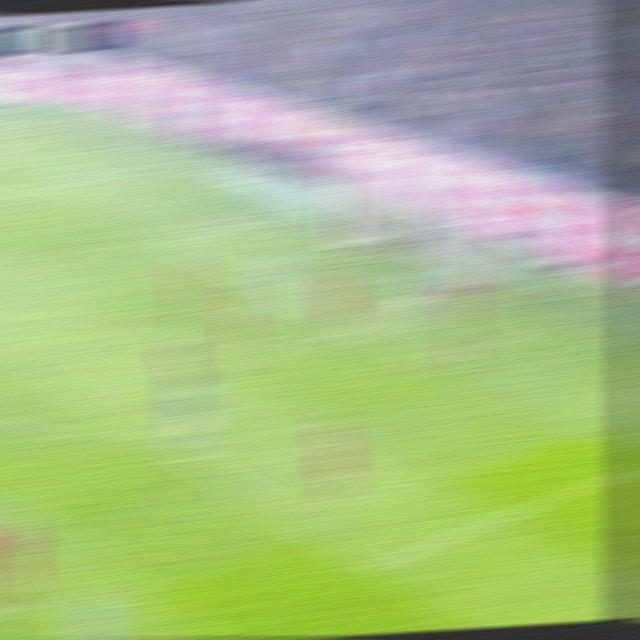bigarea_bottom_inner: (353, 556, 389, 582)
bigarea_top_outter: (130, 158, 160, 170)
bottom_arc_area_intersection: (131, 425, 164, 442)
corner: (0, 102, 32, 114)
smallarea_bottom_inner: (413, 353, 447, 371)
smallarea_bottom_outter: (526, 317, 557, 334)
smallarea_top_inner: (157, 240, 189, 253)
smallarea_top_outter: (256, 212, 285, 222)
